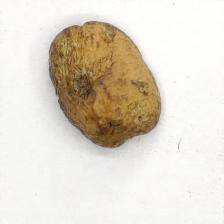NG: (57, 58, 105, 106), (95, 110, 159, 146)
